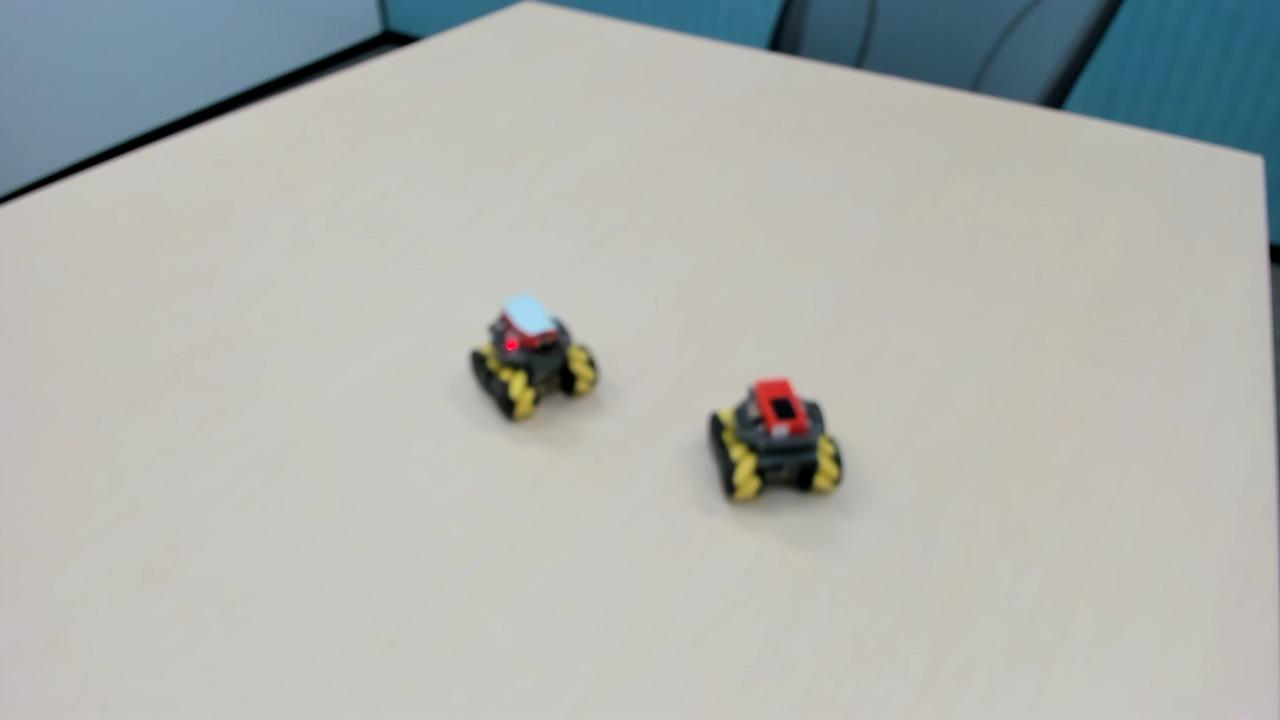B-Robot: (455, 282, 622, 432)
R-Robot: (705, 366, 865, 520)
